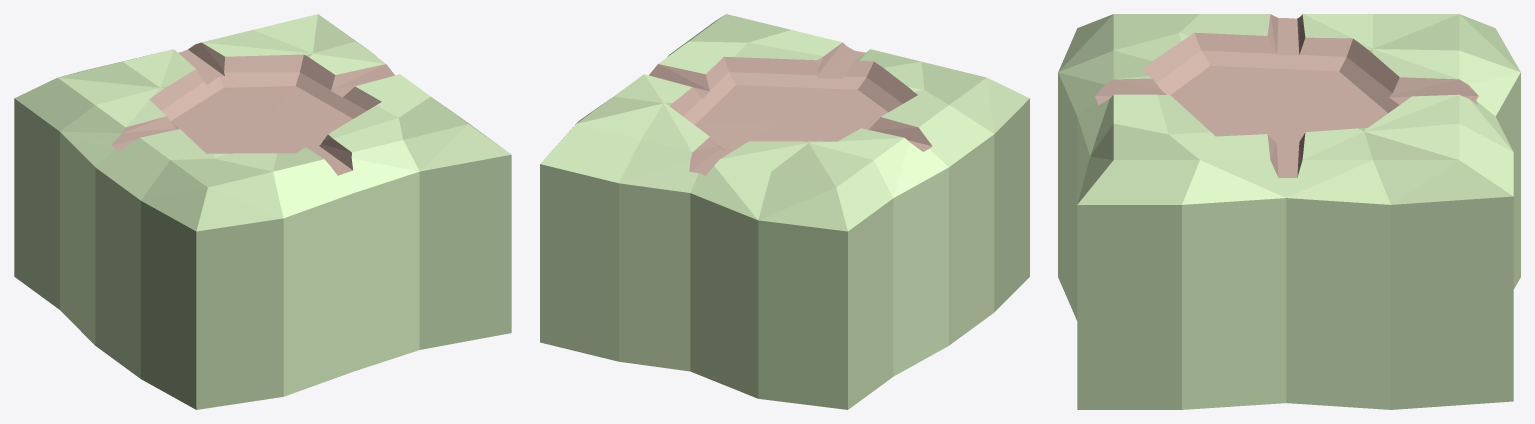
The model's file is TrenchCrosssection.fbx.
3 renders of one model, left to right at view 1: azimuth 30°, elevation 25°; view 2: azimuth 150°, elevation 25°; view 3: azimuth 270°, elevation 25°, orthographic. The views are drawn at different scales.
Visible parts, largest first — view 1: TrenchCrossection; view 2: TrenchCrossection; view 3: TrenchCrossection.
Part boxes in pixels (left/top/right/bottom): TrenchCrossection: left=14, top=14, right=511, bottom=409; TrenchCrossection: left=540, top=14, right=1029, bottom=409; TrenchCrossection: left=1058, top=14, right=1520, bottom=409.
Size of the model in its own units: 62.42 by 37.8 by 66.93.
